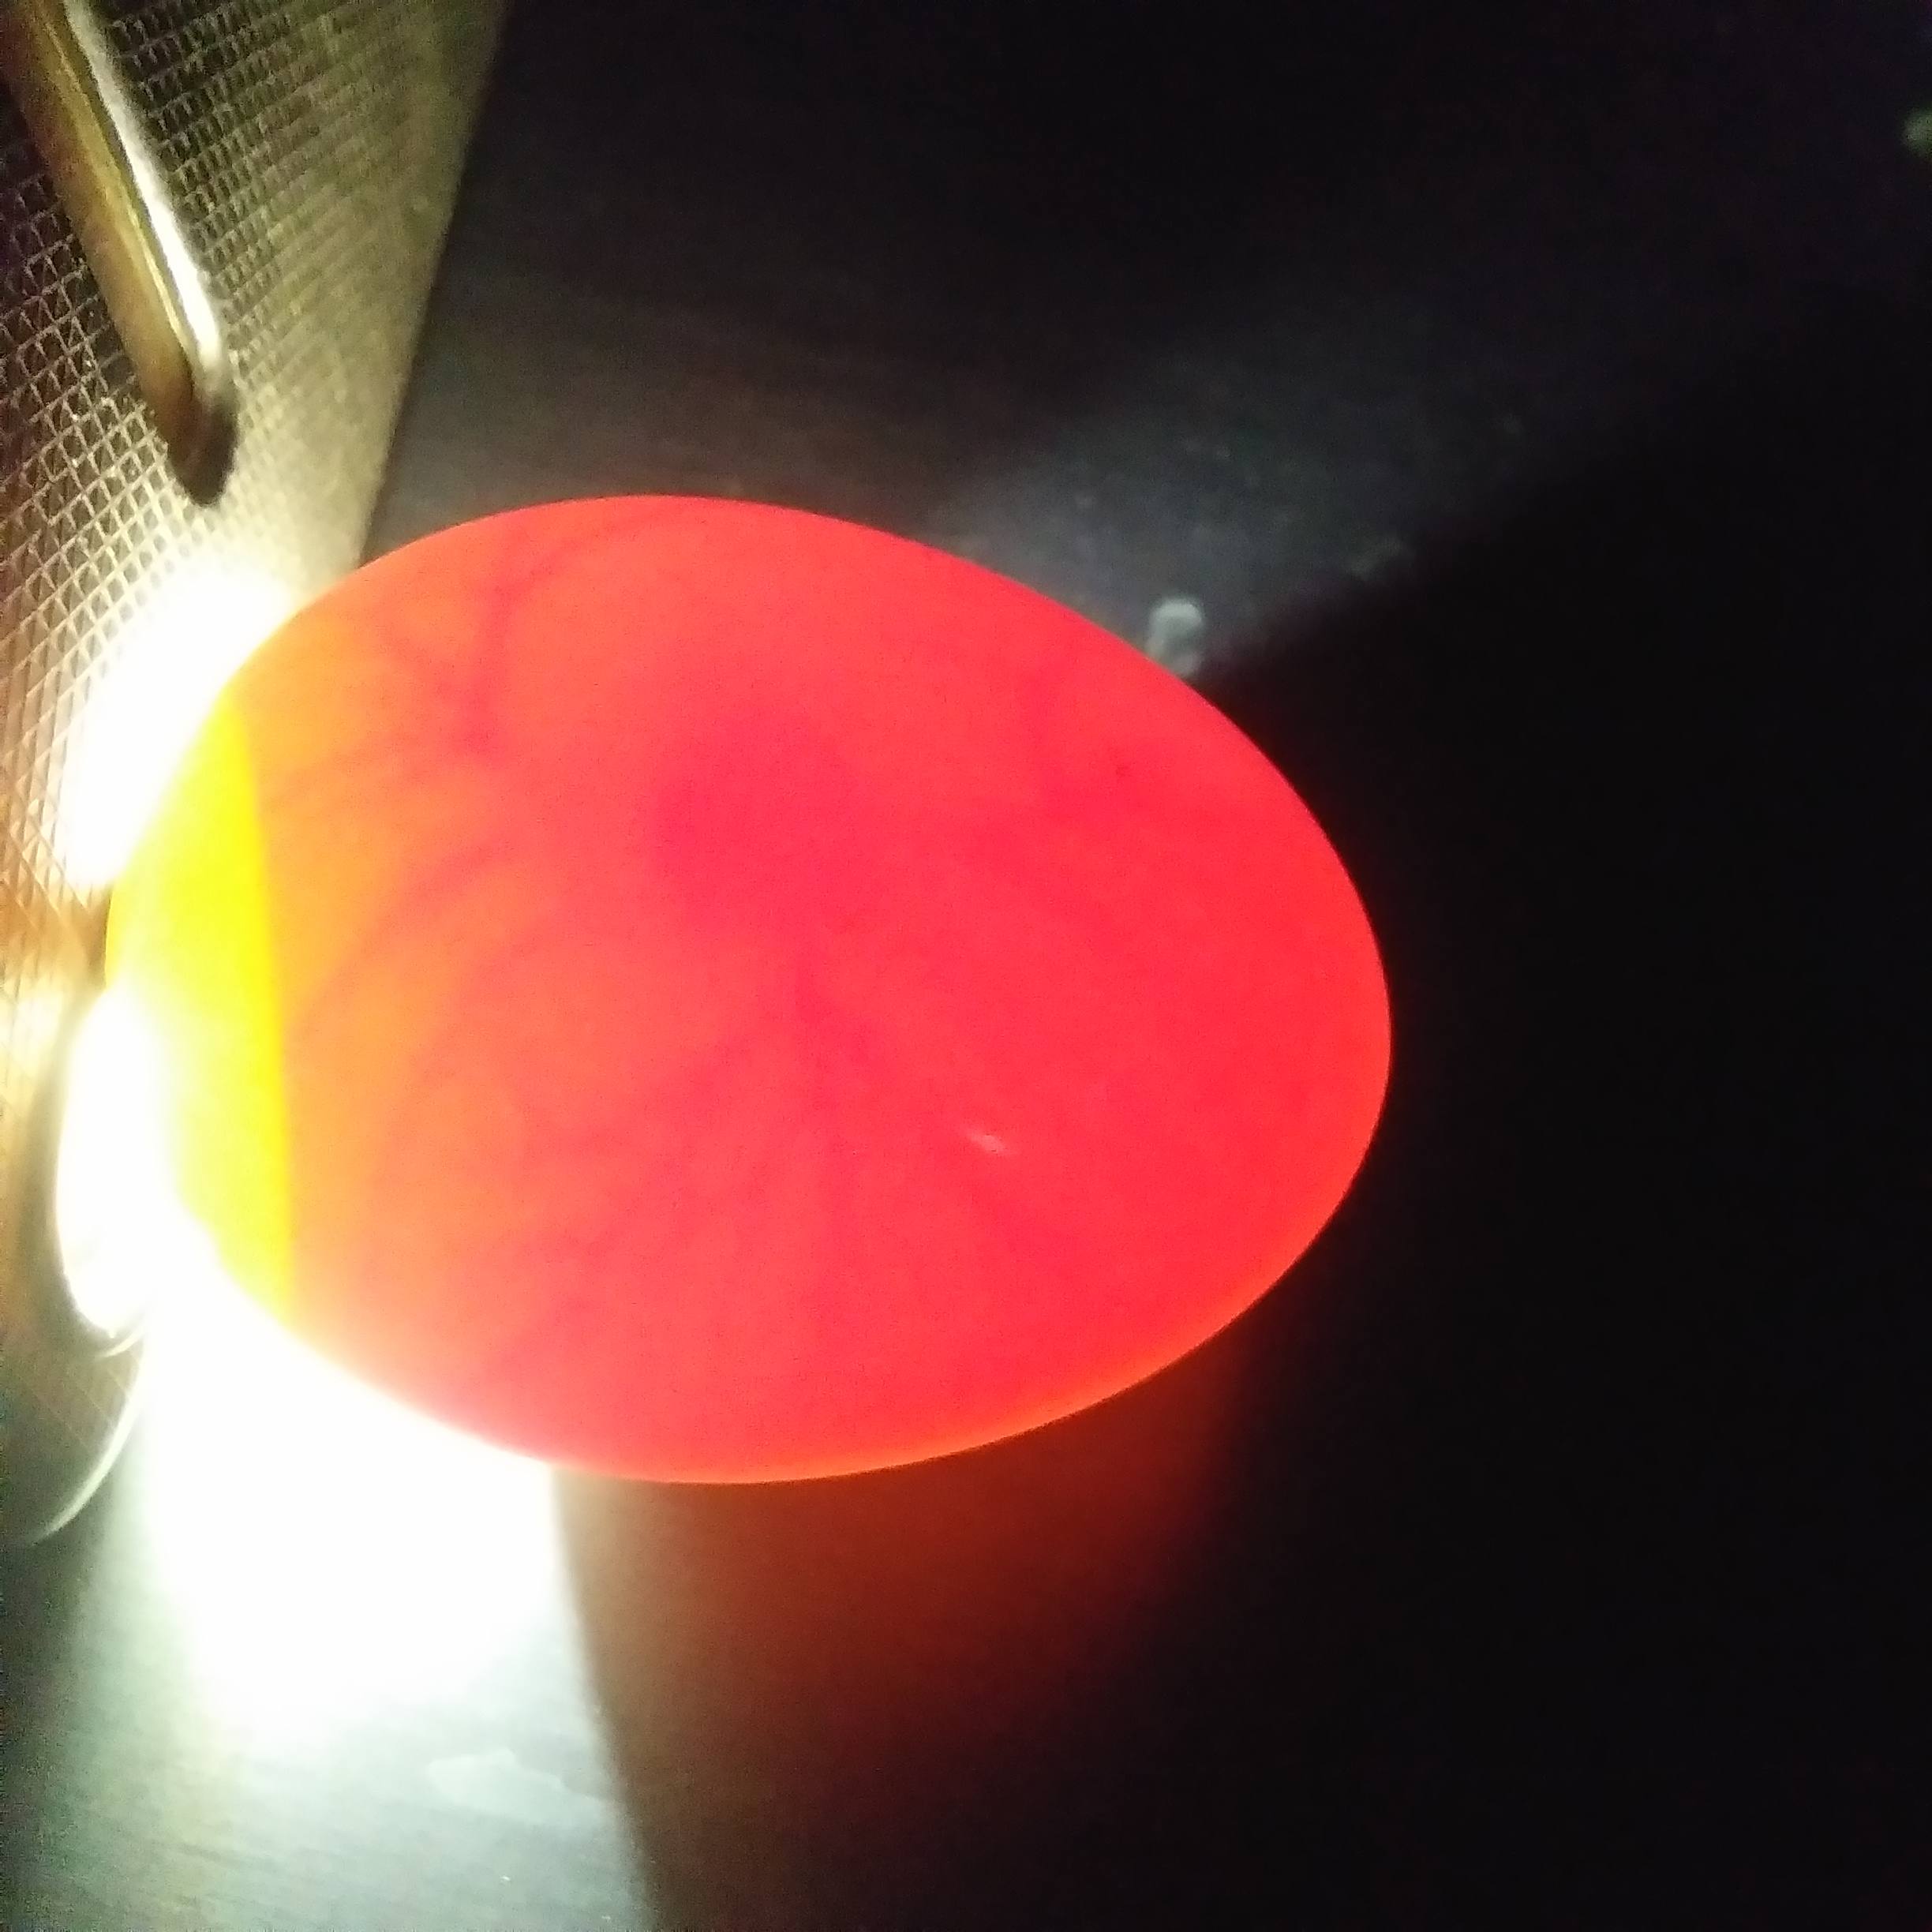bloodcell: (299, 591, 570, 1315), (609, 1053, 966, 1376)
